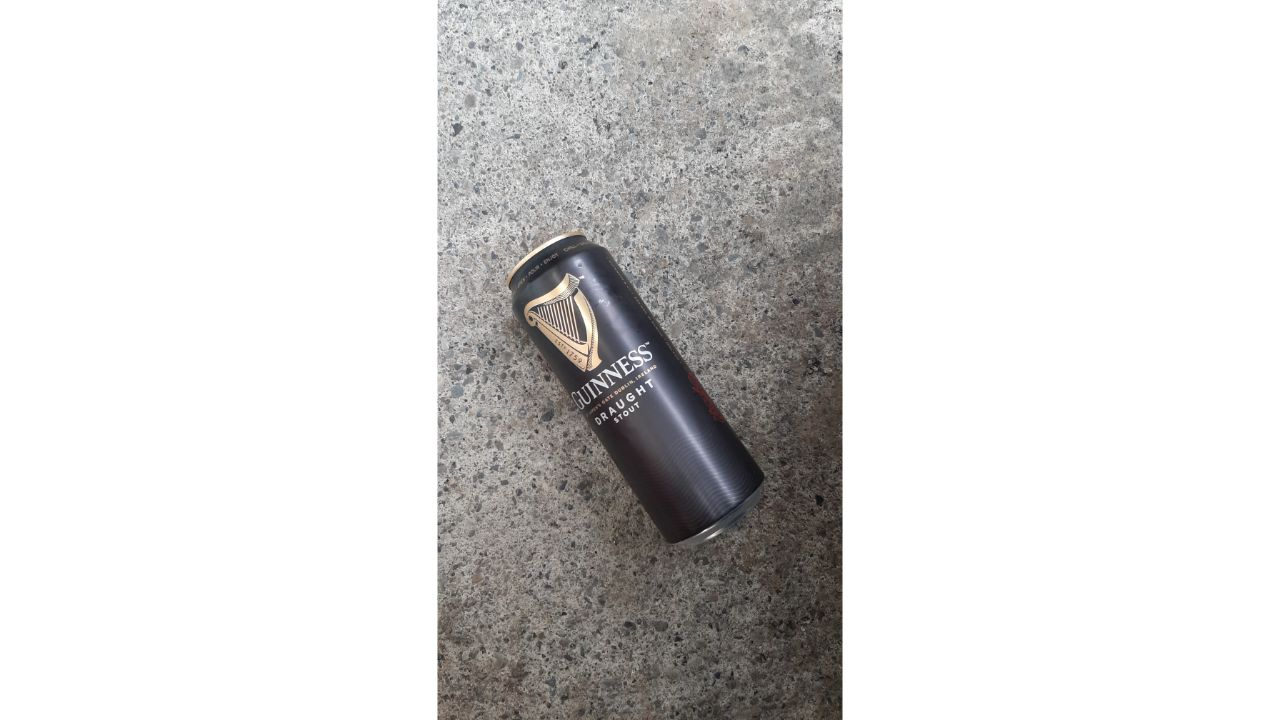Can: (498, 218, 775, 562)
